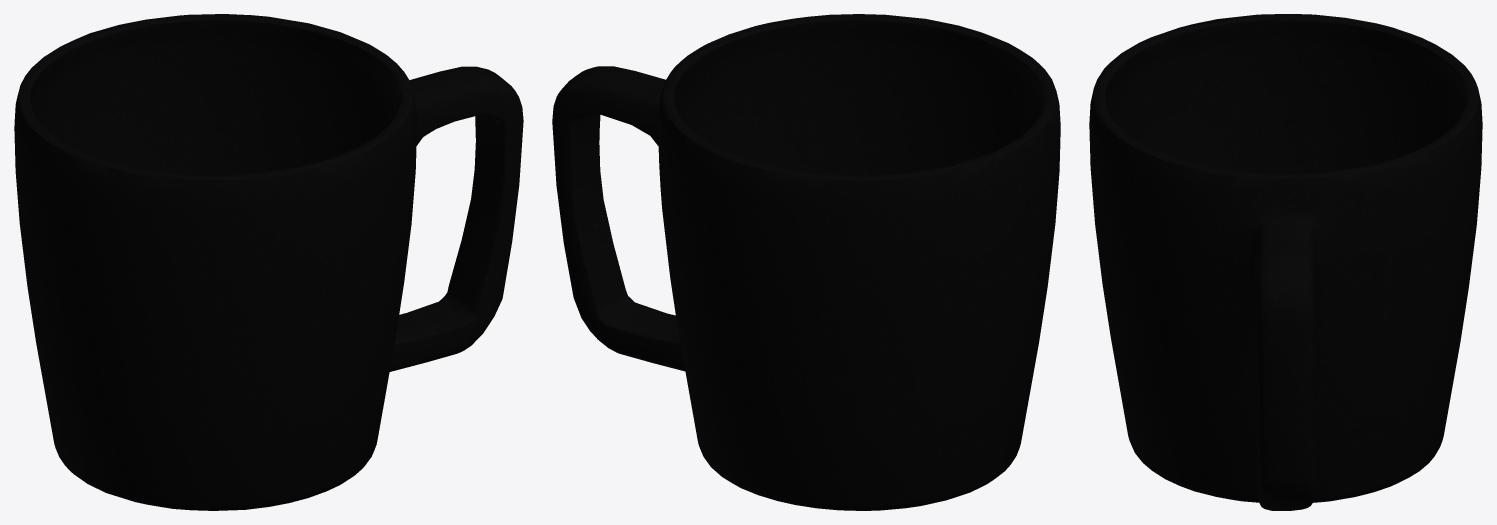
Rendered from teacup.fbx.
The picture shows the model from 3 angles, left to right: view 1: azimuth 30°, elevation 25°; view 2: azimuth 150°, elevation 25°; view 3: azimuth 270°, elevation 25°; orthographic projection.
Parts seen in each view (by area): view 1: Teacup; view 2: Teacup; view 3: Teacup.
Part boxes in pixels (bbox=[...]): Teacup: bbox=[14, 14, 523, 510]; Teacup: bbox=[552, 14, 1060, 510]; Teacup: bbox=[1089, 14, 1482, 510].
Size of the model in its own units: 14.28 by 10.07 by 10.45.
Materials: 1 (1 with a texture image).
